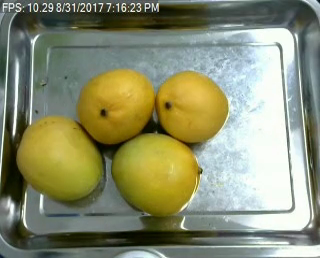Mango: (109, 133, 201, 218), (17, 117, 104, 199), (77, 70, 154, 143), (156, 70, 229, 140)
